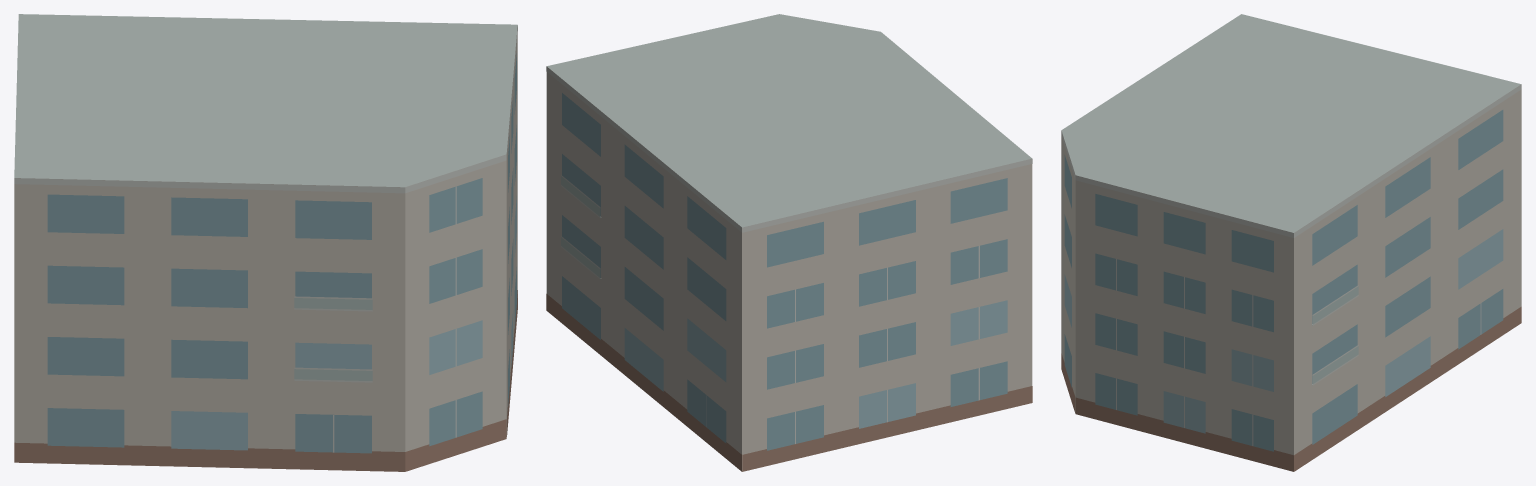
File: survey-upis-32893486.glb
The picture shows the model from 3 angles, left to right: view 1: azimuth 30°, elevation 25°; view 2: azimuth 150°, elevation 25°; view 3: azimuth 270°, elevation 25°; orthographic projection. The views are drawn at different scales.
Visible parts, largest first — view 1: survey-upis-32893486.tmp; view 2: survey-upis-32893486.tmp; view 3: survey-upis-32893486.tmp.
Part boxes in pixels (box(x1,y1,x2,y2)): survey-upis-32893486.tmp: box(14, 14, 517, 471); survey-upis-32893486.tmp: box(546, 14, 1032, 471); survey-upis-32893486.tmp: box(1061, 14, 1521, 471).
Size of the model in its own units: 22.23 by 11.3 by 19.74.
